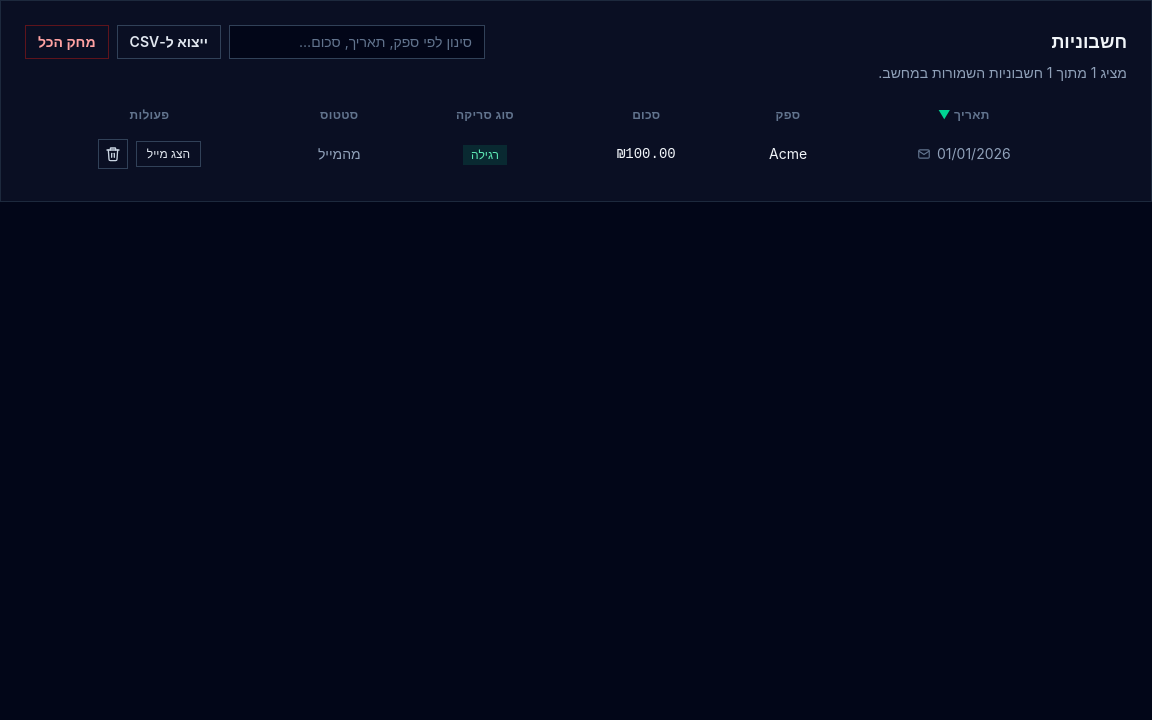
Test: InvoicesTable.vue › shows a "מהמייל" status and a "הצג מייל" popup for a body-only receipt
Click the button "הצג מייל": click(168, 154) [136,141,201,167]
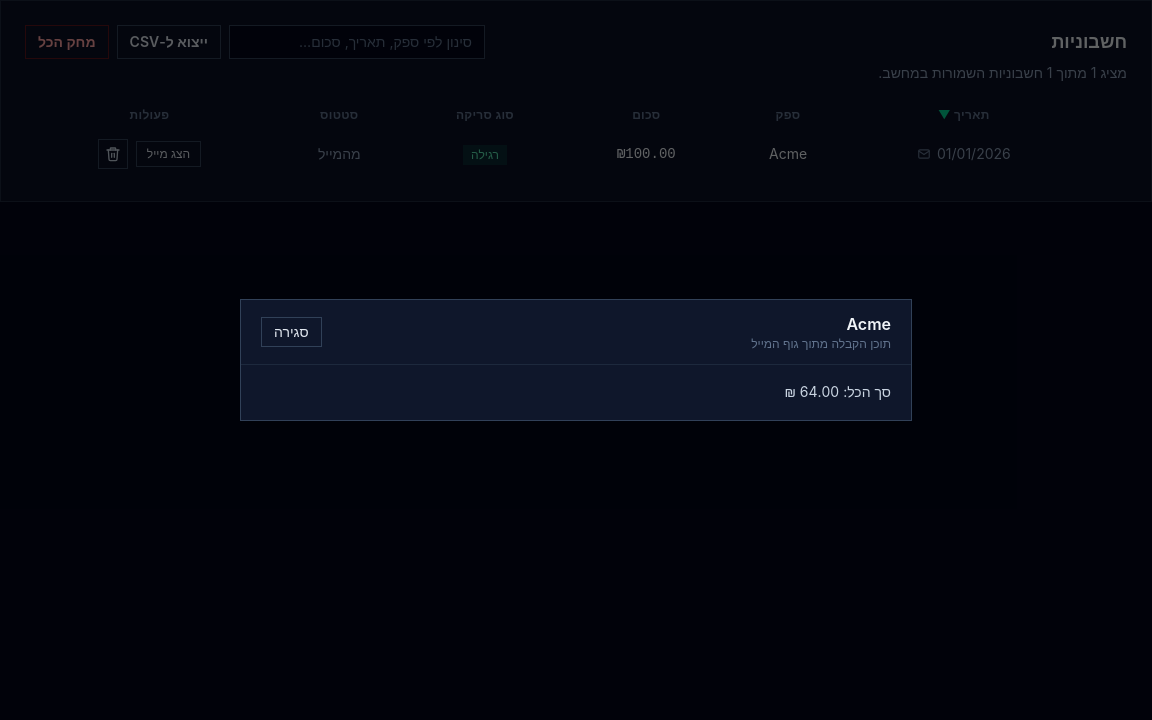
Check: the text "סך הכל: 64.00 ₪" is shown, box [784,383,891,400]
